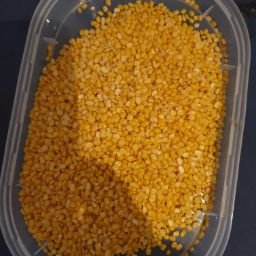Red Split Lentils(malka masar): (49, 15, 191, 256), (56, 60, 207, 242)
